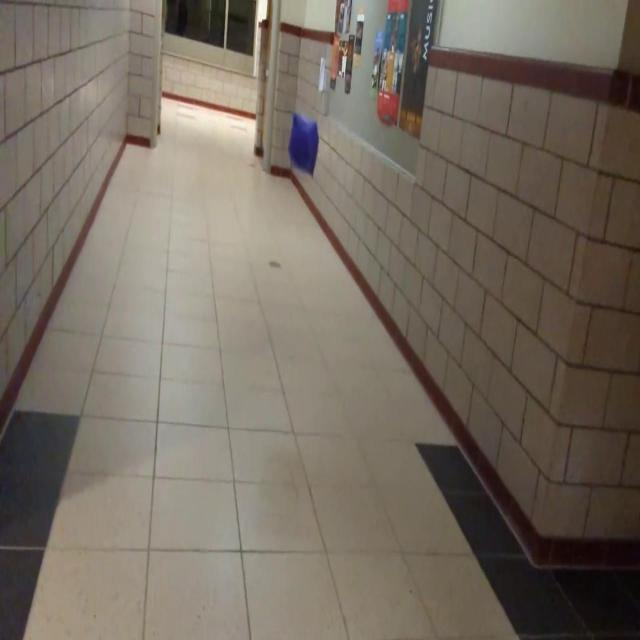frc_cube: (288, 113, 320, 175)
